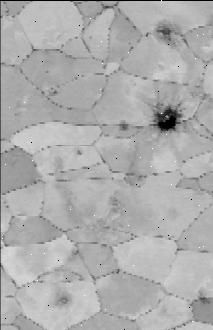good_void: (146, 101, 183, 136), (150, 18, 178, 44), (49, 285, 76, 310), (104, 189, 127, 215), (120, 168, 144, 189), (195, 287, 211, 306), (45, 82, 63, 97), (117, 119, 129, 132), (74, 145, 84, 158), (86, 34, 93, 41), (44, 67, 50, 75), (144, 29, 149, 38)
